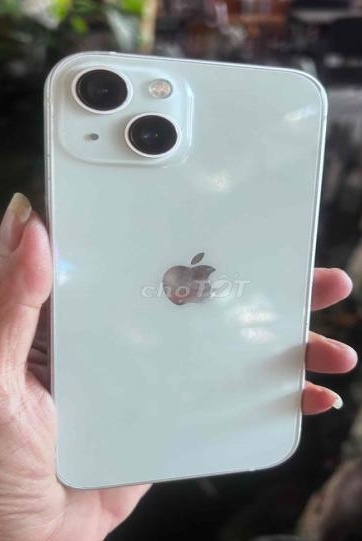scratch: (154, 250, 223, 308), (40, 78, 55, 209), (171, 71, 200, 101)
